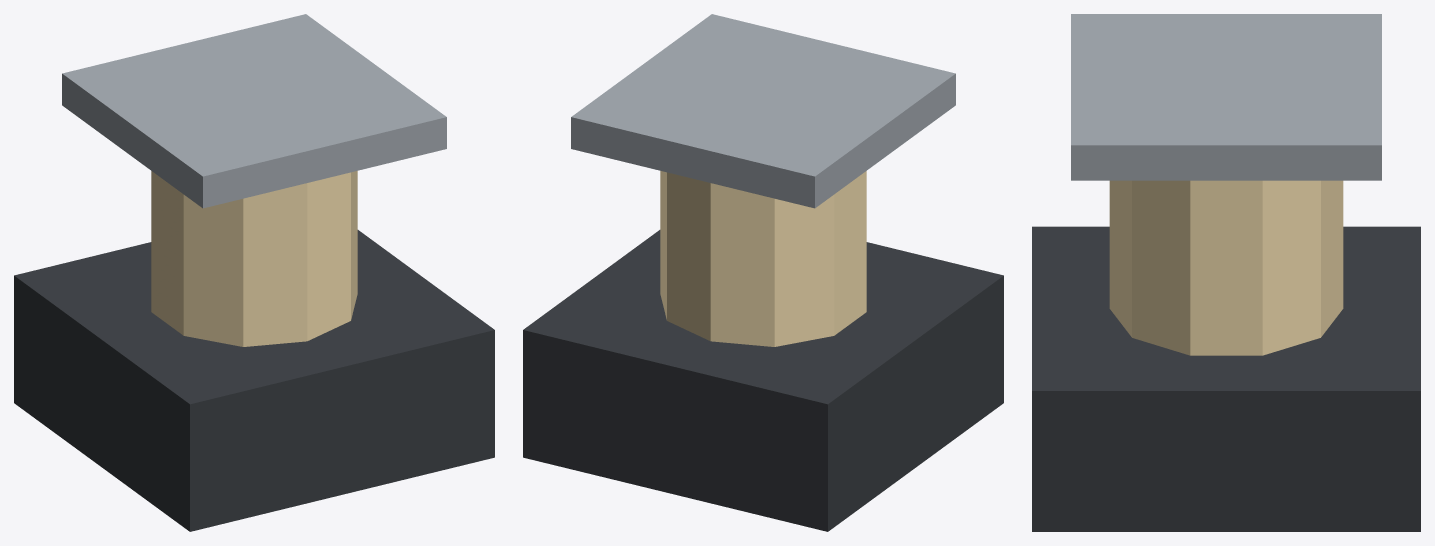
Rendered from PRP_RunwayLight.fbx.
3 renders of one model, left to right at view 1: azimuth 30°, elevation 25°; view 2: azimuth 150°, elevation 25°; view 3: azimuth 270°, elevation 25°, orthographic. The views are drawn at different scales.
Parts seen in each view (by area): view 1: PRP_RunwayLight__BODY; view 2: PRP_RunwayLight__BODY; view 3: PRP_RunwayLight__BODY.
Part boxes in pixels (x1,y1,x2,y2): PRP_RunwayLight__BODY: (14, 14, 494, 531); PRP_RunwayLight__BODY: (523, 14, 1003, 531); PRP_RunwayLight__BODY: (1032, 14, 1420, 531).
Bounding box in the file's own units: 0.3 × 0.315 × 0.3.
